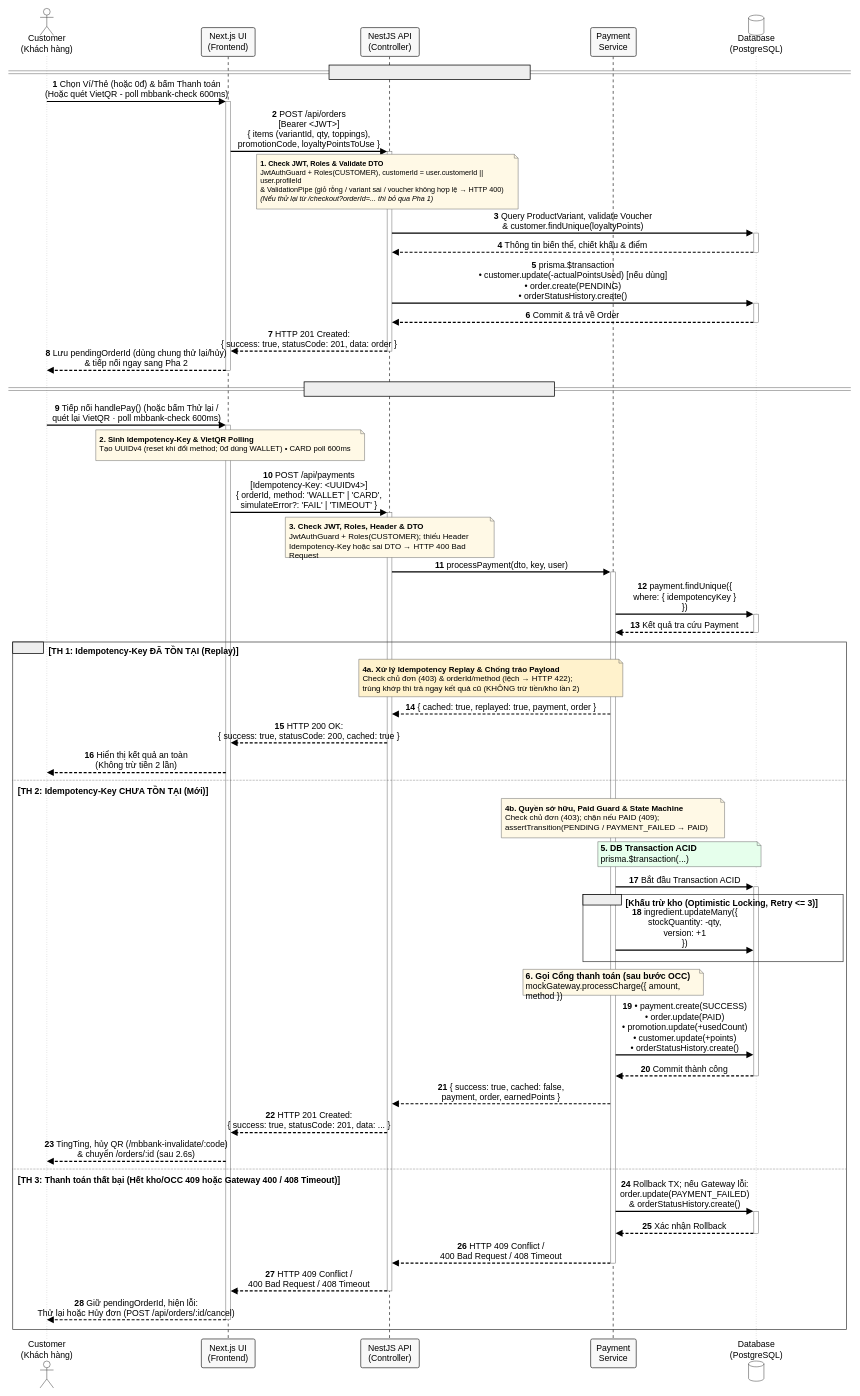
This 860x1396 diagram has some shape labels left out. The shapes that lost their labels are listed below. From the top down, each one's centre as x and y in pixels, then its label:
At (429,72): "PHẦN 1: KHỞI TẠO ĐƠN HÀNG (PENDING)".
At (429,388): "PHẦN 2: XÁC THỰC THANH TOÁN & IDEMPOTENCY".
At (28,647): "alt".
At (602,899): "loop".
